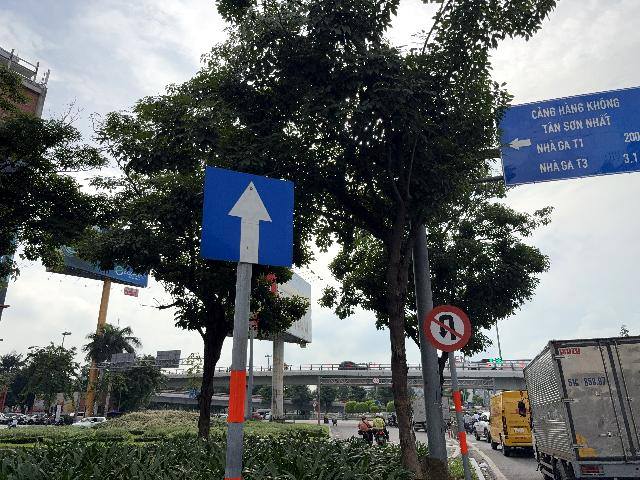cam-quay-dau-xe: (423, 304, 471, 352)
duong-mot-chieu: (201, 165, 294, 267)
